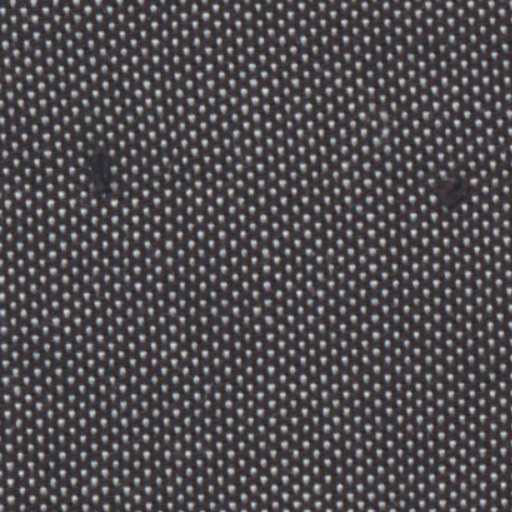MianQiu: (68, 119, 141, 216), (408, 144, 486, 223)
